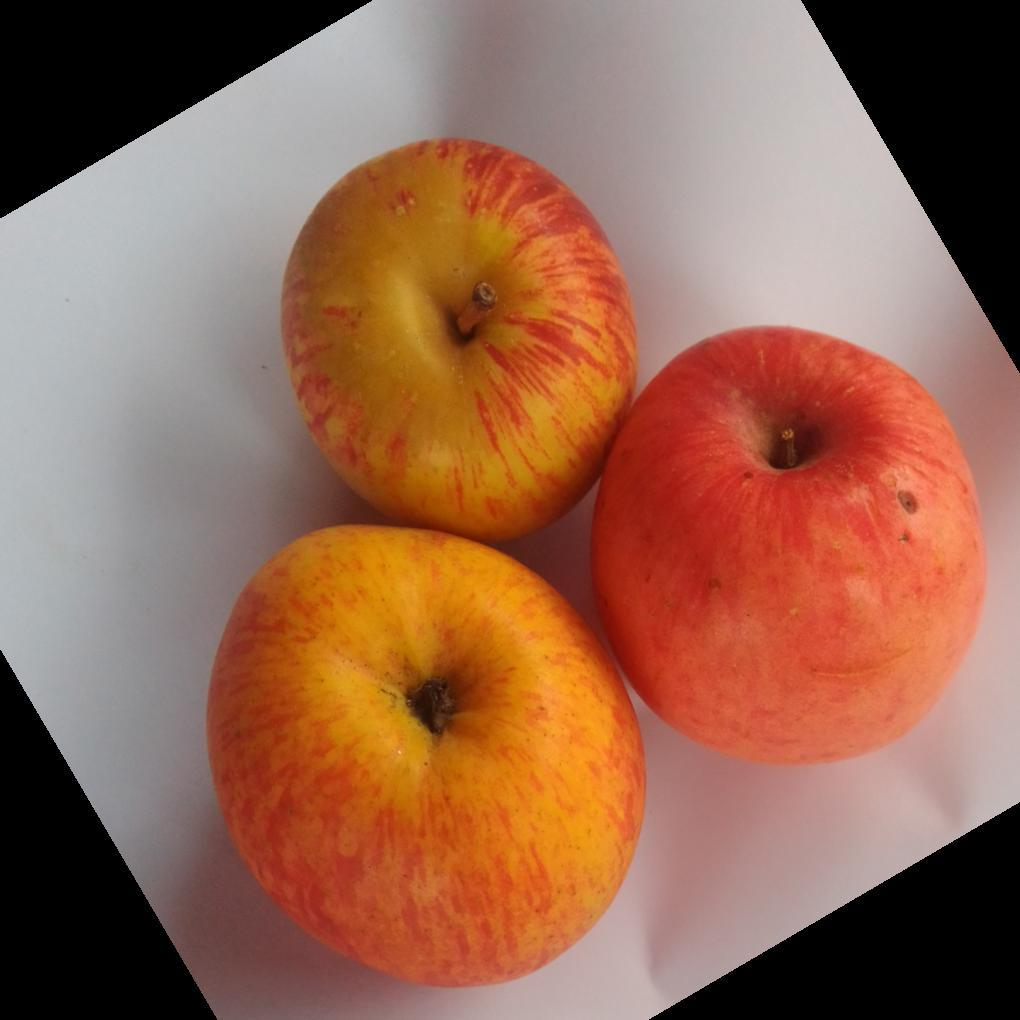FreshGuava: (206, 139, 988, 992)
